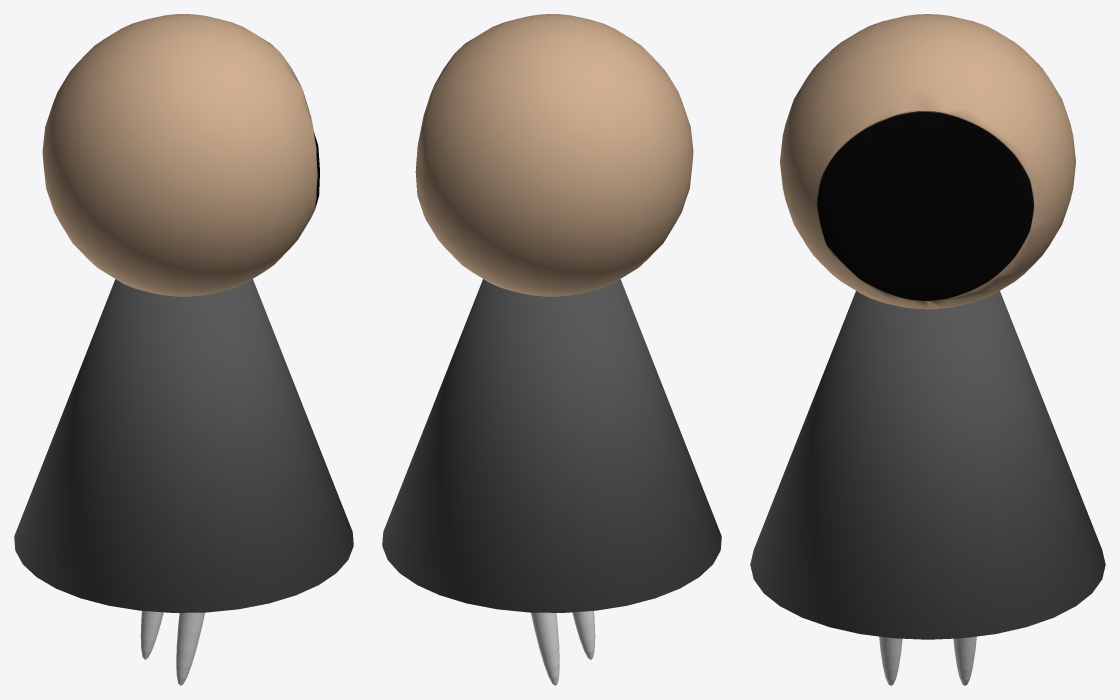
Rendered from モブEnemy.fbx.
The picture shows the model from 3 angles, left to right: view 1: azimuth 30°, elevation 25°; view 2: azimuth 150°, elevation 25°; view 3: azimuth 270°, elevation 25°; orthographic projection. The views are drawn at different scales.
Parts seen in each view (by area): view 1: 円錐, 球, 球.001, 球.002; view 2: 円錐, 球, 球.002, 球.001; view 3: 円錐, 球, 球.001, 球.002.
Boxes of the visible parts, bbox=[...] form: 円錐: bbox=[14, 279, 353, 612]; 球: bbox=[42, 14, 319, 296]; 球.001: bbox=[176, 612, 204, 685]; 球.002: bbox=[140, 611, 163, 659]; 円錐: bbox=[382, 279, 721, 612]; 球: bbox=[415, 14, 693, 296]; 球.002: bbox=[531, 612, 559, 685]; 球.001: bbox=[572, 611, 595, 659]; 円錐: bbox=[750, 291, 1105, 639]; 球: bbox=[780, 14, 1075, 309]; 球.001: bbox=[879, 636, 902, 685]; 球.002: bbox=[953, 636, 976, 685].
Bounding box in the file's own units: 2.4 × 4.98 × 2.4.
2 materials, 1 textured.
